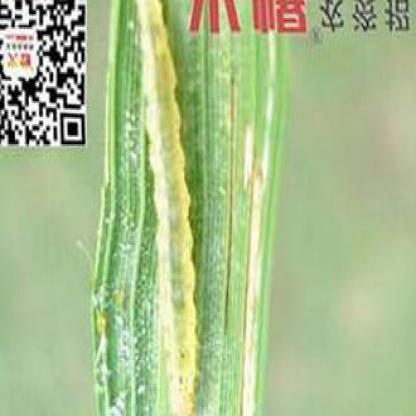leaf-folder: (126, 11, 202, 416)
